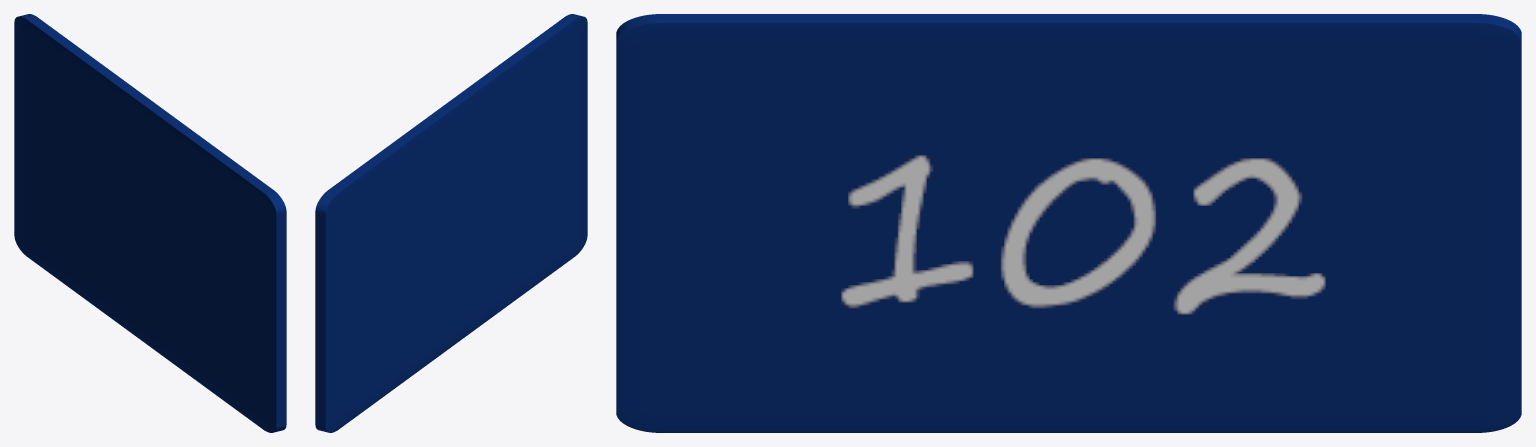
File: roomBoard2.fbx
3 renders of one model, left to right at view 1: azimuth 30°, elevation 25°; view 2: azimuth 150°, elevation 25°; view 3: azimuth 270°, elevation 25°, orthographic. The views are drawn at different scales.
Visible parts, largest first — view 1: Cube.006; view 2: Cube.006; view 3: Cube.006.
Boxes of the visible parts, bbox=[...] form: Cube.006: bbox=[14, 14, 286, 432]; Cube.006: bbox=[315, 14, 587, 432]; Cube.006: bbox=[616, 14, 1521, 432].
Size of the model in its own units: 0.5 by 10 by 20.
